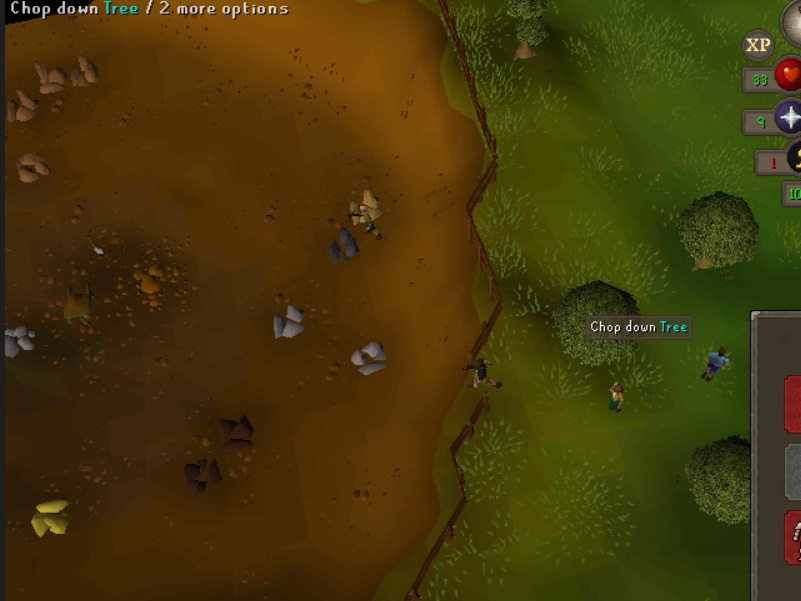clay: (347, 184, 391, 229)
copper: (13, 148, 55, 185), (64, 51, 106, 88), (30, 59, 72, 96), (1, 87, 42, 124)
gold: (27, 492, 79, 543)
iron: (179, 452, 227, 495), (212, 411, 260, 454)
tin: (268, 299, 317, 344), (348, 337, 392, 380)
